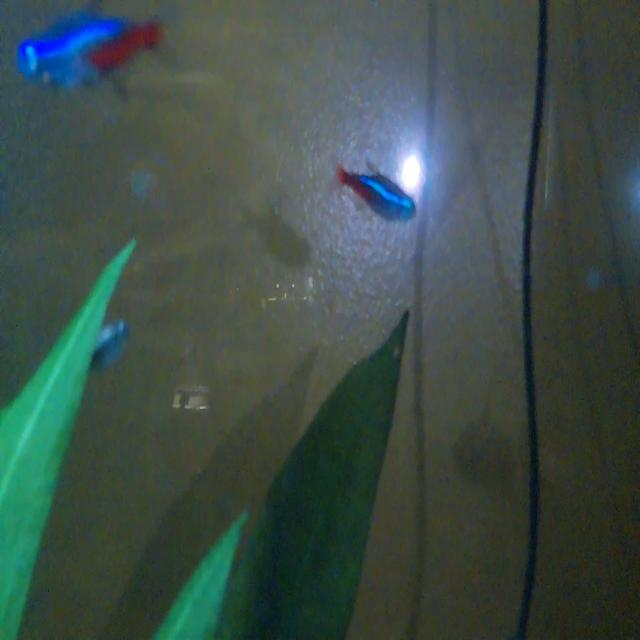fish: (8, 9, 172, 98), (332, 145, 414, 232)
